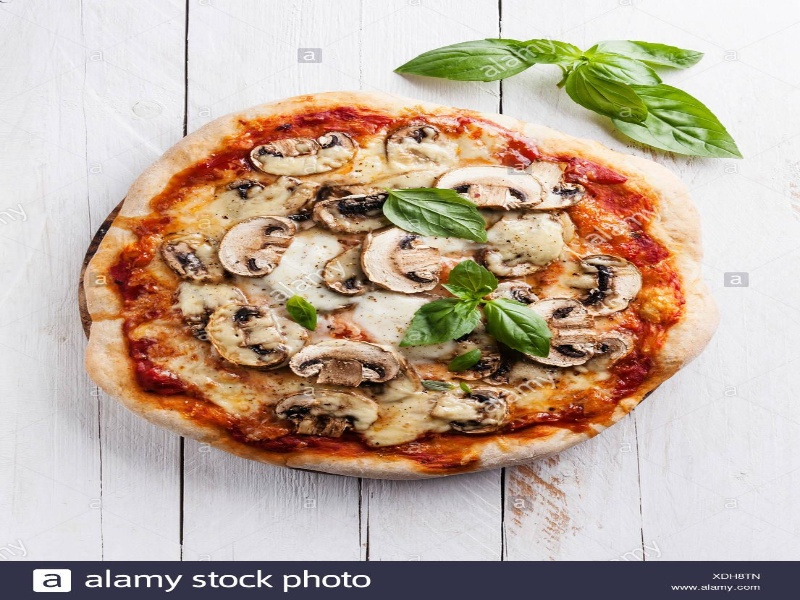champignon: (281, 337, 408, 395), (428, 162, 548, 218), (516, 299, 605, 373), (215, 209, 301, 285), (207, 301, 295, 373), (247, 129, 361, 180), (272, 388, 381, 441)
